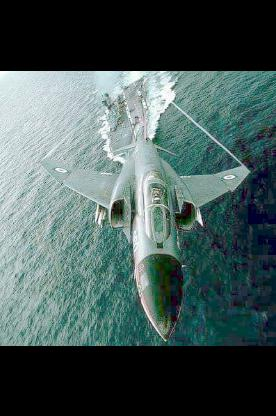F35: (39, 108, 249, 341)
